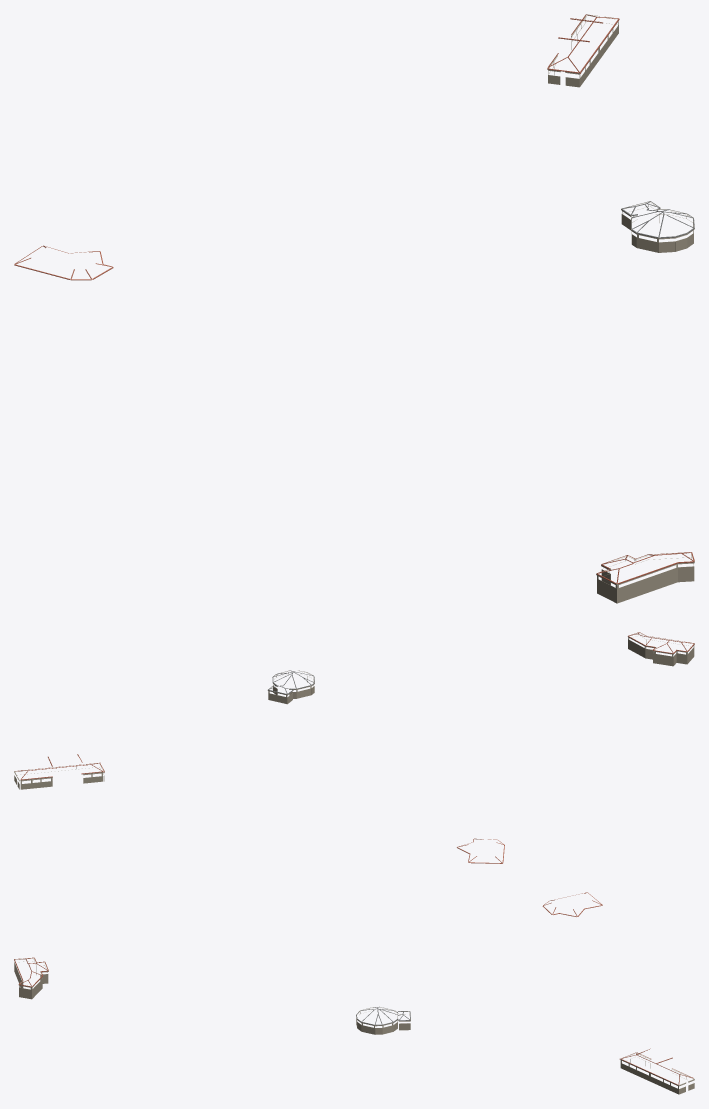
3 renders of one model, top to bottom at view 1: azimuth 30°, elevation 25°; view 2: azimuth 150°, elevation 25°; view 3: azimuth 270°, elevation 25°, orthographic. The views are drawn at different scales.
Visible parts, largest first — view 1: detail; view 2: detail; view 3: detail.
Boxes of the visible parts, x1=… form: detail: x1=14, y1=14, x2=694, y2=603; detail: x1=14, y1=632, x2=694, y2=863; detail: x1=14, y1=892, x2=694, y2=1094.
Bounding box in the file's own units: 224 × 32.7 × 305.
